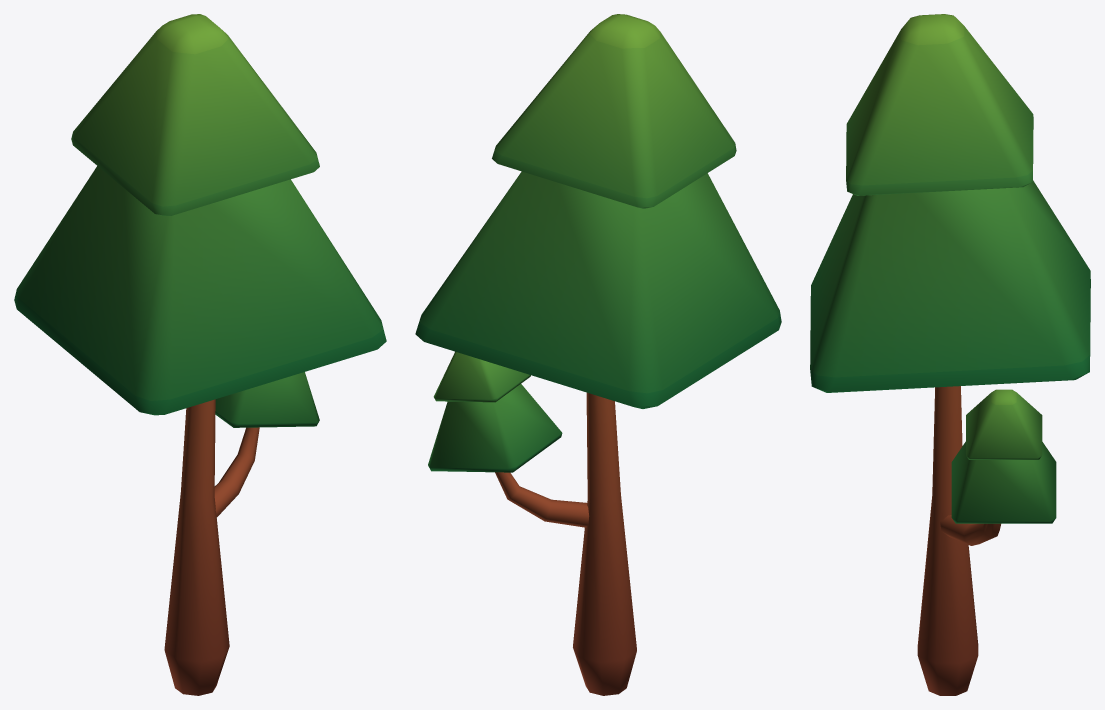
The model's file is Tree_4_A.glb.
The picture shows the model from 3 angles, left to right: view 1: azimuth 30°, elevation 25°; view 2: azimuth 150°, elevation 25°; view 3: azimuth 270°, elevation 25°; orthographic projection.
Bounding box in the file's own units: 2.01 × 5.27 × 2.
